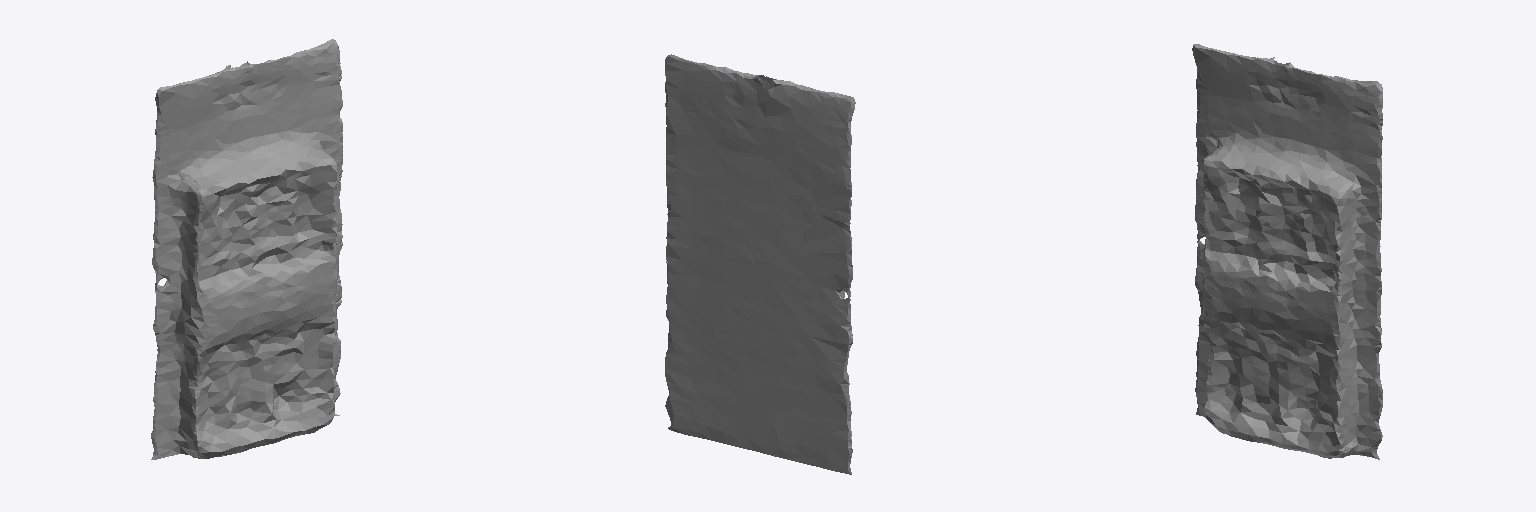
File: stanley_66_052.obj
The picture shows the model from 3 angles: view 1: azimuth 30°, elevation 25°; view 2: azimuth 150°, elevation 25°; view 3: azimuth 330°, elevation 25°; orthographic projection.
Bounding box in the file's own units: 0.1018 × 0.193 × 0.0224.